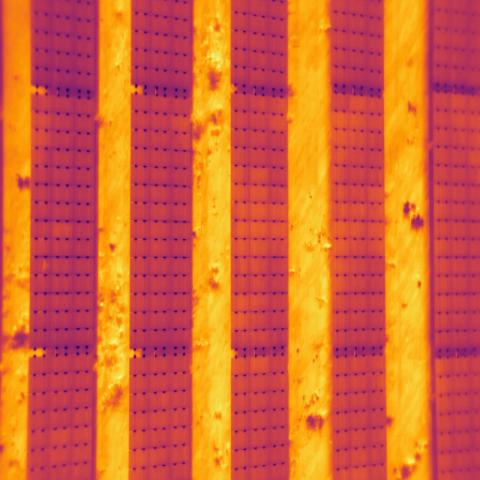fault: (52, 220, 73, 239)
